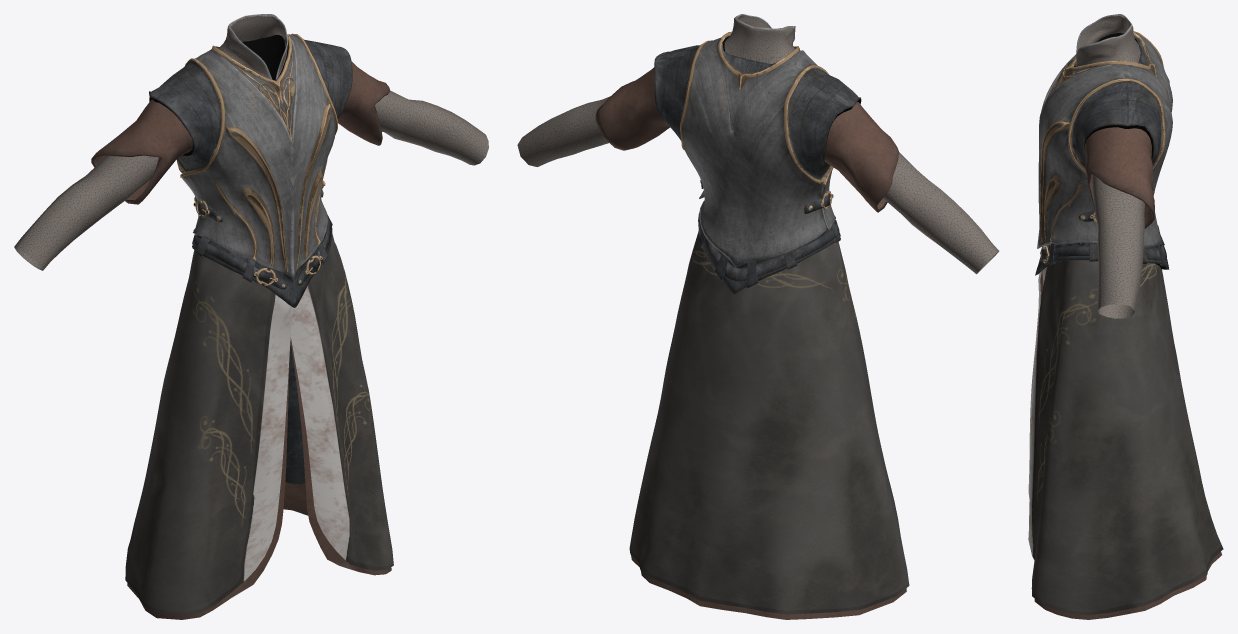
The model's file is mkwd_inf3_chest_silver.fbx.
3 renders of one model, left to right at view 1: azimuth 30°, elevation 25°; view 2: azimuth 150°, elevation 25°; view 3: azimuth 270°, elevation 25°, orthographic. The views are drawn at different scales.
Parts seen in each view (by area): view 1: mkwd_inf3_chest_silver.lod0.3, mkwd_inf3_chest_silver.lod0.0, mkwd_inf3_chest_silver.lod0.2, mkwd_inf3_chest_silver.lod0.1; view 2: mkwd_inf3_chest_silver.lod0.3, mkwd_inf3_chest_silver.lod0.1, mkwd_inf3_chest_silver.lod0.2, mkwd_inf3_chest_silver.lod0.0; view 3: mkwd_inf3_chest_silver.lod0.3, mkwd_inf3_chest_silver.lod0.2, mkwd_inf3_chest_silver.lod0.0, mkwd_inf3_chest_silver.lod0.1.
Boxes of the visible parts, box(x1,y1,x2,y2) form: mkwd_inf3_chest_silver.lod0.3: box(125, 234, 393, 615); mkwd_inf3_chest_silver.lod0.0: box(149, 33, 352, 307); mkwd_inf3_chest_silver.lod0.2: box(14, 14, 488, 619); mkwd_inf3_chest_silver.lod0.1: box(149, 34, 339, 285); mkwd_inf3_chest_silver.lod0.3: box(629, 231, 909, 614); mkwd_inf3_chest_silver.lod0.1: box(654, 35, 860, 294); mkwd_inf3_chest_silver.lod0.2: box(517, 14, 999, 619); mkwd_inf3_chest_silver.lod0.0: box(655, 31, 861, 281); mkwd_inf3_chest_silver.lod0.3: box(1028, 260, 1223, 615); mkwd_inf3_chest_silver.lod0.2: box(1034, 14, 1221, 619); mkwd_inf3_chest_silver.lod0.0: box(1035, 31, 1166, 275); mkwd_inf3_chest_silver.lod0.1: box(1040, 32, 1172, 269).
Size of the model in its own units: 1.34 by 0.4931 by 1.51.
4 materials, 4 textured.
